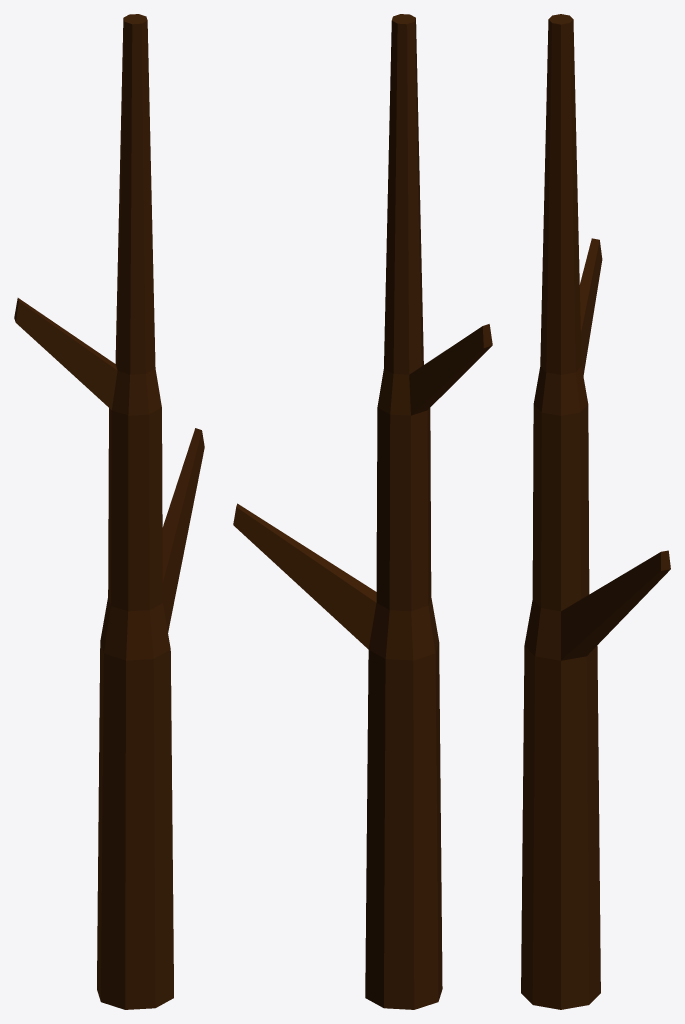
File: smallStick.fbx
The picture shows the model from 3 angles, left to right: view 1: azimuth 30°, elevation 25°; view 2: azimuth 150°, elevation 25°; view 3: azimuth 270°, elevation 25°; orthographic projection.
Parts seen in each view (by area): view 1: Cylinder; view 2: Cylinder; view 3: Cylinder.
Boxes of the visible parts, <box> form: Cylinder: <box>14,14,204,1009</box>; Cylinder: <box>233,14,492,1009</box>; Cylinder: <box>521,14,670,1009</box>.
Bounding box in the file's own units: 323 × 1344 × 188.
